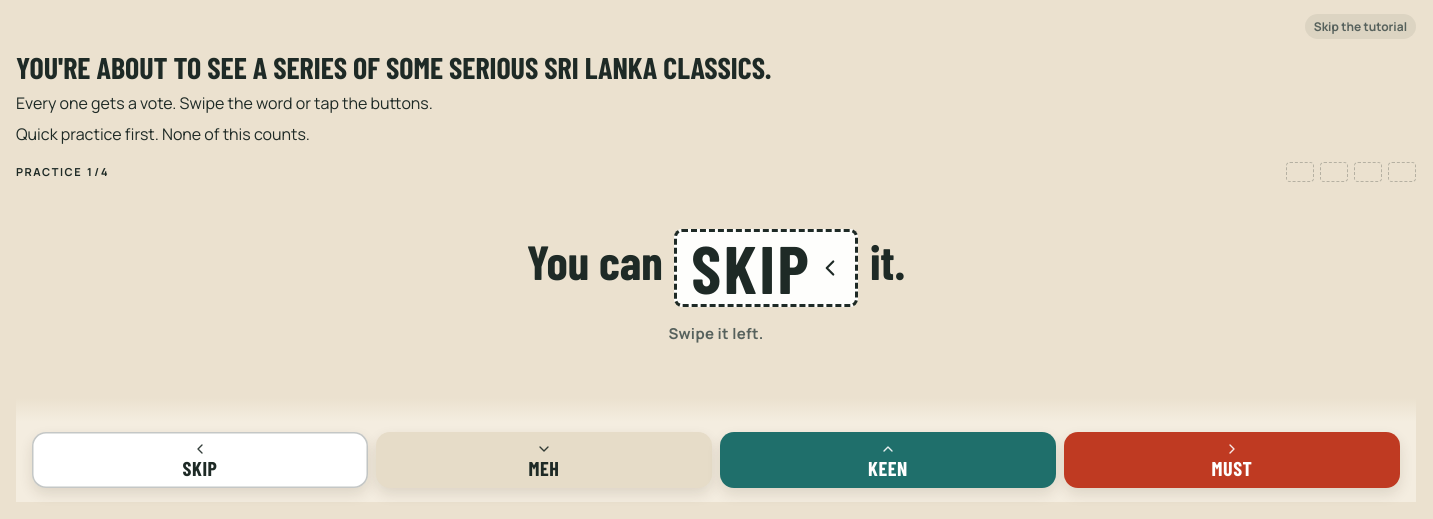
Test: HowTo word motion and fly-off › each next screen moves its own way: Meh nods down
The width and height of the screenshot is (1433, 519).
Press the mouse on the element with class "hw-card" at (766, 268), box [674,230,858,307]
Wait 1980 ms
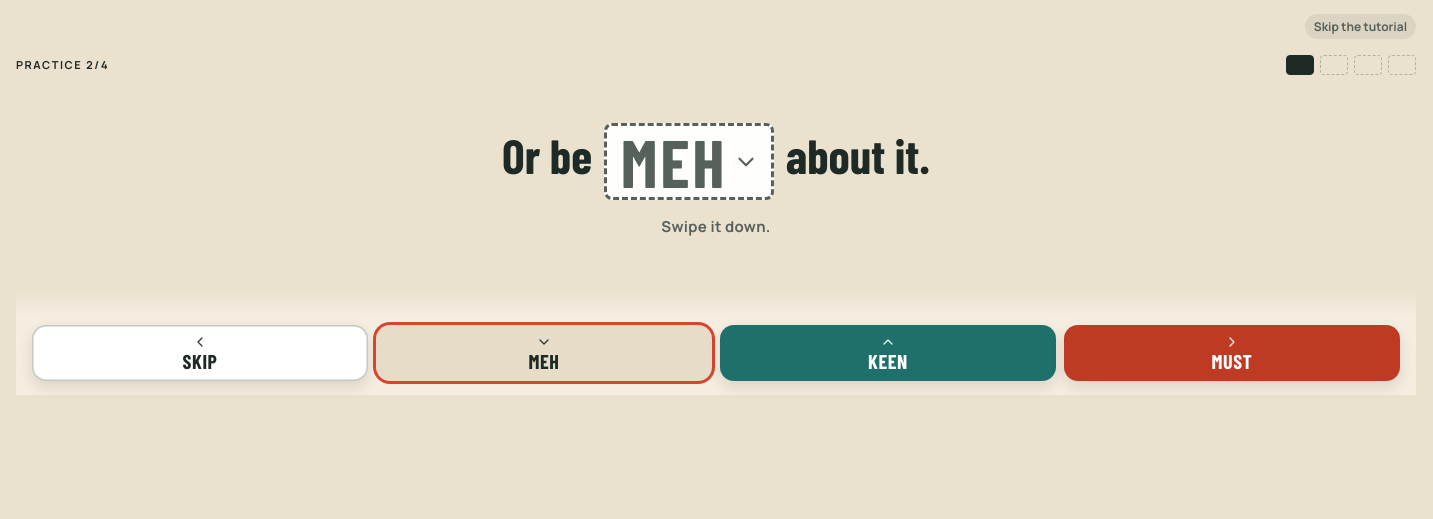
Check: the element with class "hw-word" reads "Meh", box [621,121,727,201]
